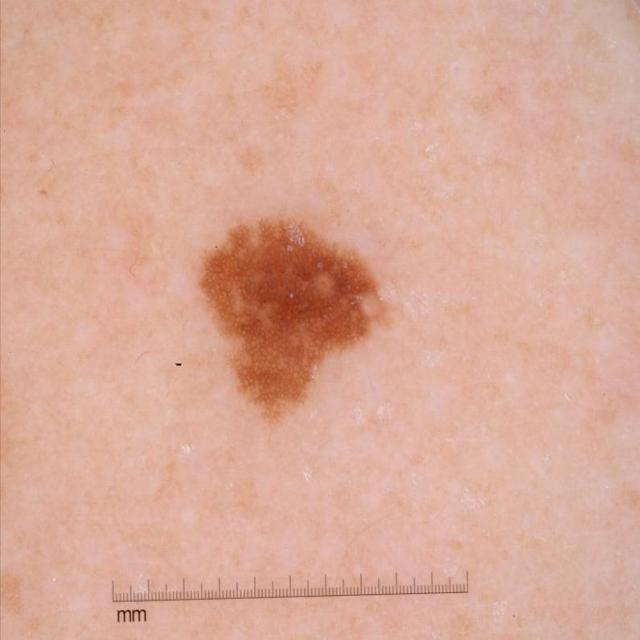Benign: (190, 192, 396, 439)
